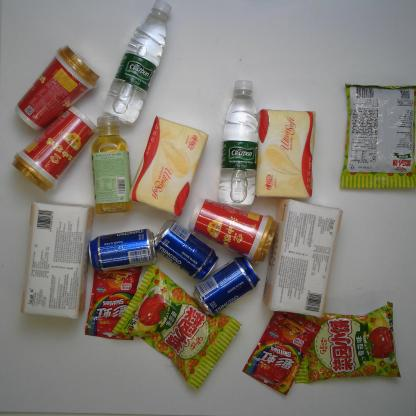Alcohol: (153, 218, 219, 280), (193, 257, 261, 317), (85, 228, 157, 272)
Candy: (241, 303, 321, 396), (84, 263, 141, 342)
Drink: (99, 1, 172, 124), (217, 79, 260, 207), (90, 116, 134, 215)
Instant Drink: (11, 104, 94, 194), (14, 46, 98, 131), (187, 198, 278, 262)
Puffed Food: (112, 266, 240, 390), (292, 301, 404, 386), (339, 79, 416, 192)
Tissue: (262, 198, 344, 318), (18, 199, 94, 320), (128, 115, 210, 218), (255, 108, 318, 200)
